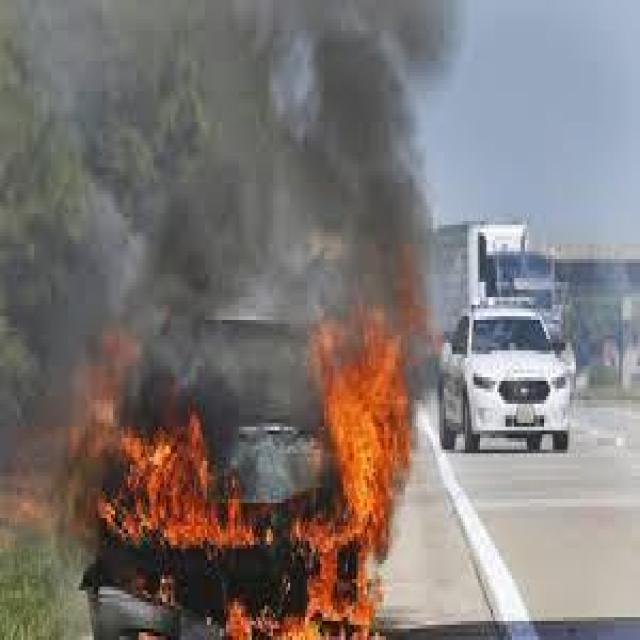fire: (40, 256, 463, 632)
smoke: (0, 4, 429, 346)
